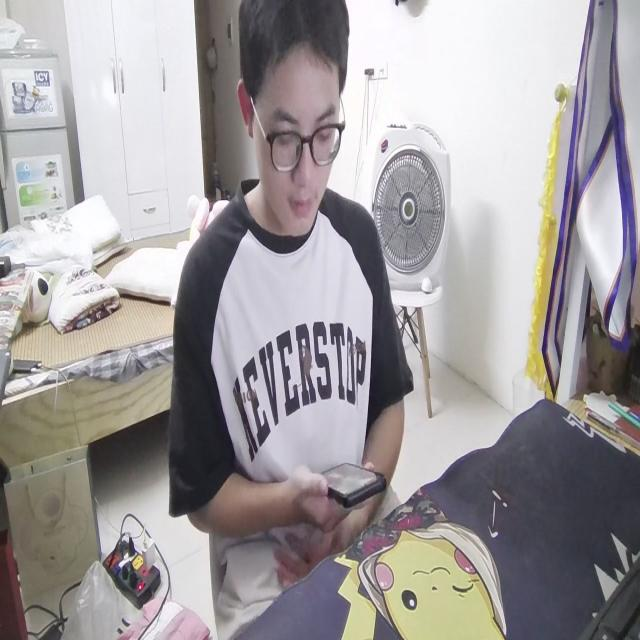phone: (314, 453, 386, 514)
student: (164, 0, 408, 611)
